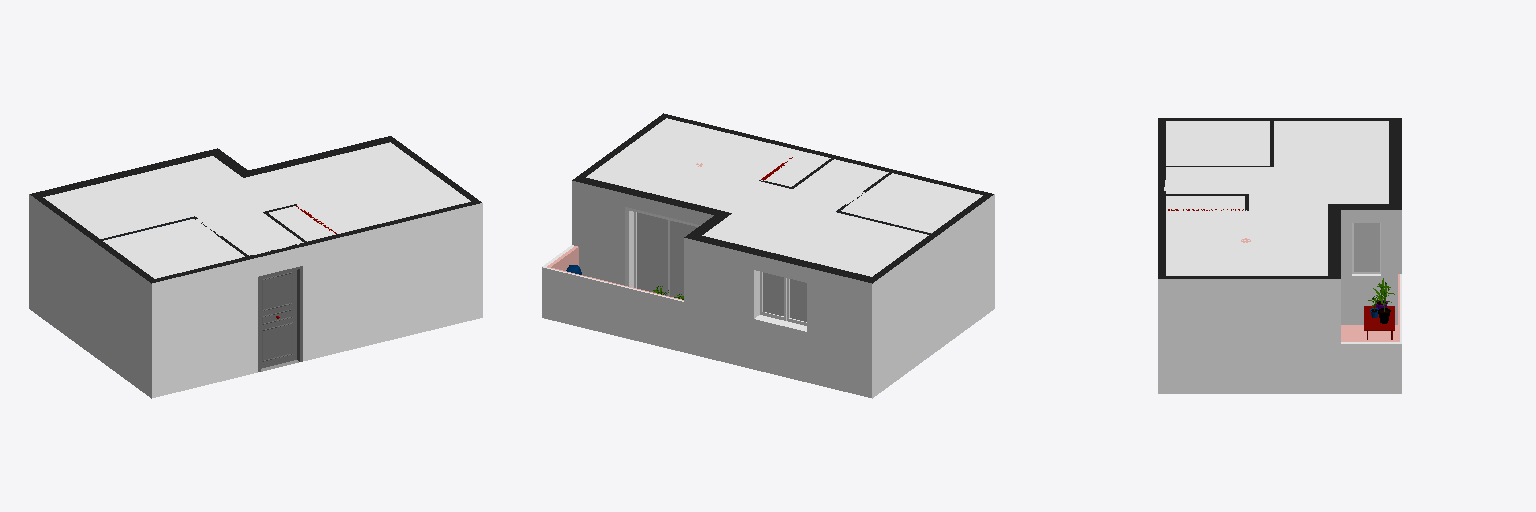
File: TestModel.obj
3 views of the same model, side by side, from view 1: azimuth 30°, elevation 25°; view 2: azimuth 150°, elevation 25°; view 3: azimuth 270°, elevation 25° (orthographic).
Visible parts, largest first — view 1: wall_15_103, room_19_118, wall_14_96, room_20_120, wall_12_82, wall_11_75, room_17_114, sweethome3d_opening_on_hinge_1_doorOutside_592, wall_16_109, room_18_116, wall_13_89, frameOutside_581 (+2 smaller); view 2: wall_1_5, room_19_118, room_20_120, wall_12_82, wall_8_54, wall_11_75, wall_3_19, room_17_114, room_18_116, sweethome3d_window_pane_on_rail_1_226, sweethome3d_window_pane_on_rail_2_228, frame_427 (+5 smaller); view 3: wall_4_26, room_19_118, room_20_120, room_17_114, wall_2_12, wall_9_60, room_18_116, sweethome3d_window_pane_231, room_21_121, wall_1_8, wall_1_7.
Part boxes in pixels (x1,y1,x2,y2): wall_15_103: (337, 203, 482, 352); room_19_118: (223, 142, 470, 241); wall_14_96: (152, 259, 250, 397); room_20_120: (43, 156, 248, 238); wall_12_82: (29, 194, 93, 355); wall_11_75: (94, 242, 151, 398); room_17_114: (103, 219, 244, 278); sweethome3d_opening_on_hinge_1_doorOutside_592: (261, 270, 296, 368); wall_16_109: (309, 238, 336, 359); room_18_116: (195, 203, 303, 255); wall_13_89: (251, 245, 308, 373); frameOutside_581: (258, 266, 302, 371); wall_1_5: (684, 238, 871, 397); room_19_118: (586, 118, 830, 217); room_20_120: (702, 199, 928, 276); wall_12_82: (872, 237, 936, 398); wall_8_54: (542, 267, 683, 351); wall_11_75: (937, 194, 994, 350); wall_3_19: (572, 181, 713, 285); room_17_114: (841, 173, 982, 232); room_18_116: (780, 159, 888, 211); sweethome3d_window_pane_on_rail_1_226: (637, 212, 667, 295); sweethome3d_window_pane_on_rail_2_228: (670, 221, 697, 298); frame_427: (752, 268, 809, 334); wall_4_26: (1158, 279, 1340, 393); room_19_118: (1166, 194, 1327, 275); room_20_120: (1274, 121, 1388, 203); room_17_114: (1166, 121, 1269, 165); wall_2_12: (1341, 210, 1401, 324); wall_9_60: (1341, 344, 1401, 393); room_18_116: (1164, 167, 1273, 193); sweethome3d_window_pane_231: (1354, 223, 1379, 271); room_21_121: (1341, 325, 1397, 339); wall_1_8: (1389, 119, 1395, 206); wall_1_7: (1396, 118, 1401, 208).
Size of the model in its own units: 753 by 250 by 481.